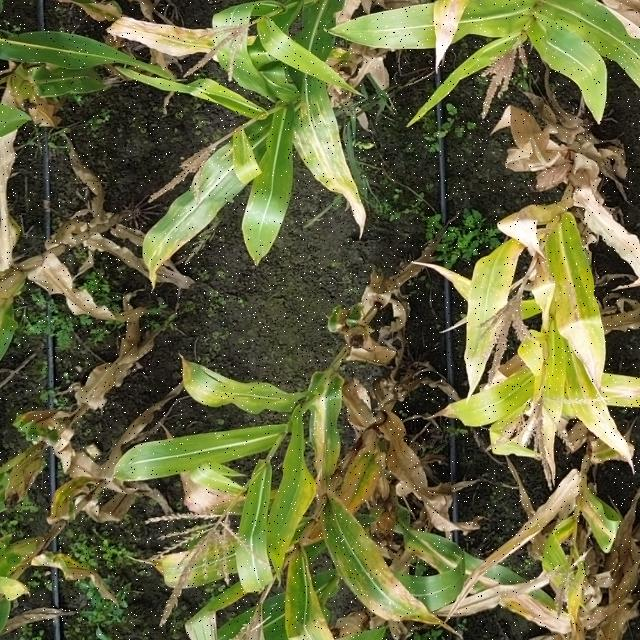gray-leaf-spot: (286, 110, 362, 193), (156, 193, 207, 247)
northern-leaf-blight: (551, 244, 600, 351), (436, 548, 538, 598), (578, 495, 620, 539), (309, 396, 339, 457), (599, 372, 640, 404)
southern-leaf-blight: (323, 519, 375, 575), (344, 13, 426, 48), (594, 20, 640, 67), (286, 579, 326, 630), (304, 2, 342, 52), (191, 381, 249, 406), (46, 37, 93, 64), (290, 472, 315, 519)
